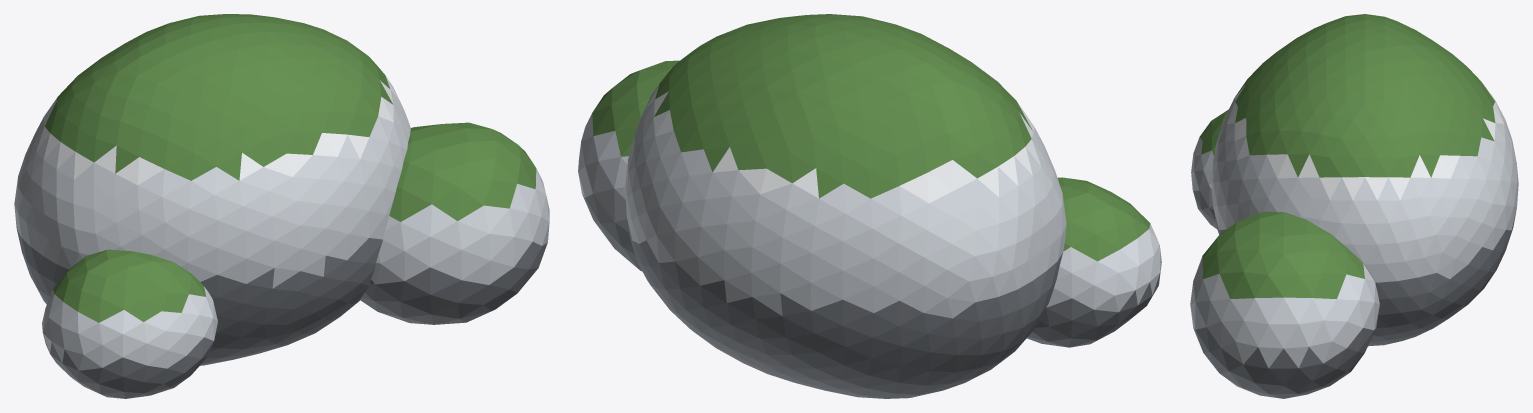
File: StoneOutcrop.obj
The picture shows the model from 3 angles, left to right: view 1: azimuth 30°, elevation 25°; view 2: azimuth 150°, elevation 25°; view 3: azimuth 270°, elevation 25°; orthographic projection. The views are drawn at different scales.
Bounding box in the file's own units: 4.5 × 2.73 × 2.82.
